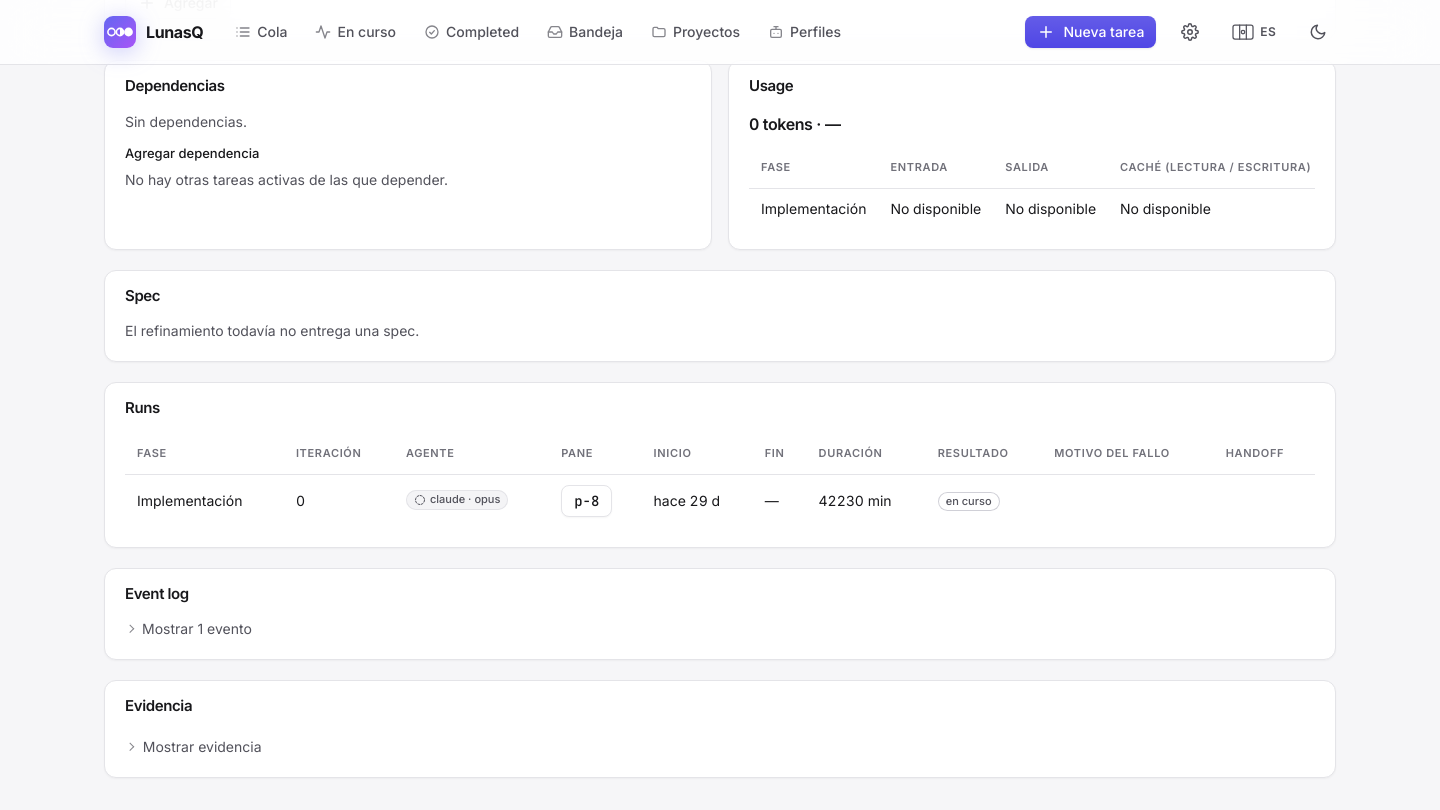
Test case: API errors in the UI › an unknown code shows the English message of the API
(page scrolled)
Click the button "p-8".
click(587, 500)  # box [561,484,612,516]
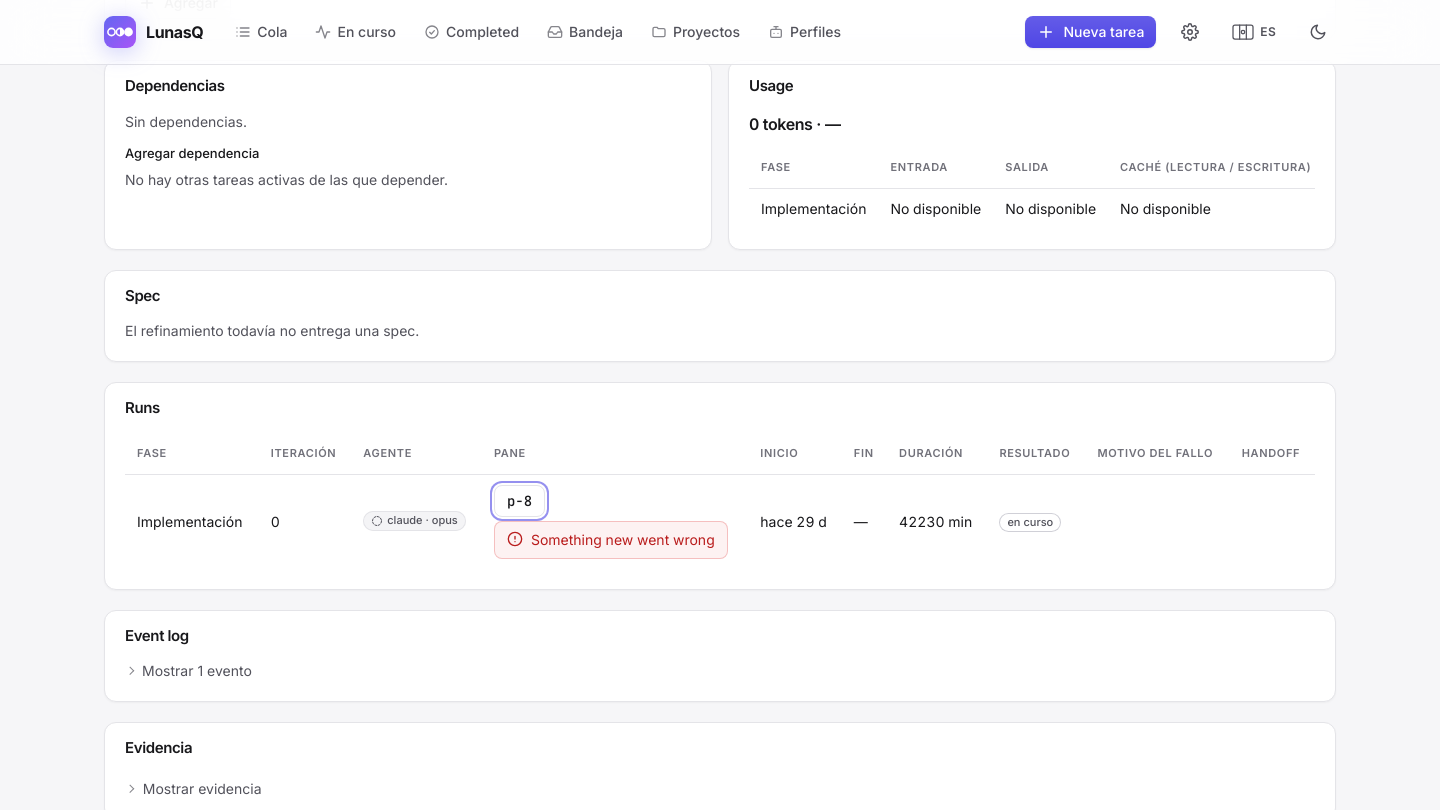
Result: the message reads "Something new went wrong" at [531,530,715,548]
